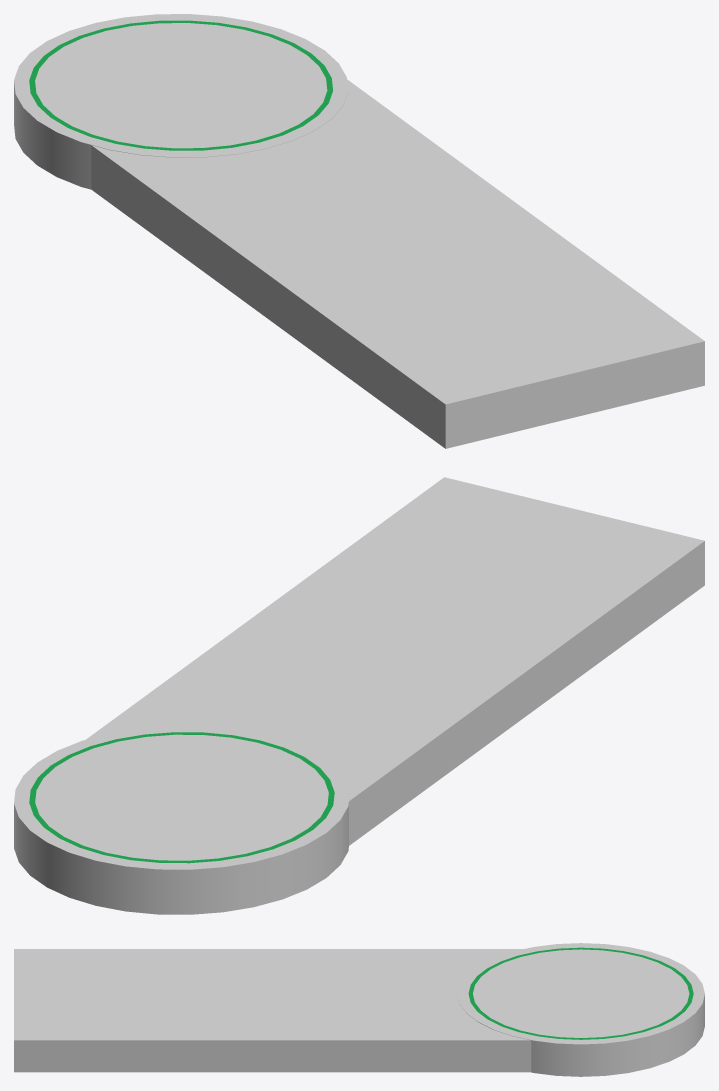
The model's file is Level_2_Paltform.fbx.
The picture shows the model from 3 angles, top to bottom: view 1: azimuth 30°, elevation 25°; view 2: azimuth 150°, elevation 25°; view 3: azimuth 270°, elevation 25°; orthographic projection. The views are drawn at different scales.
Parts seen in each view (by area): view 1: platform_1.003, yuvarlak_platform_1.002; view 2: platform_1.003, yuvarlak_platform_1.002; view 3: platform_1.003, yuvarlak_platform_1.002.
Part boxes in pixels (<box>): platform_1.003: <box>91,79,704,448</box>; yuvarlak_platform_1.002: <box>14,14,348,189</box>; platform_1.003: <box>86,477,704,845</box>; yuvarlak_platform_1.002: <box>14,725,349,914</box>; platform_1.003: <box>14,949,531,1072</box>; yuvarlak_platform_1.002: <box>457,943,704,1076</box>.
Bounding box in the file's own units: 697 × 104 × 2007.
